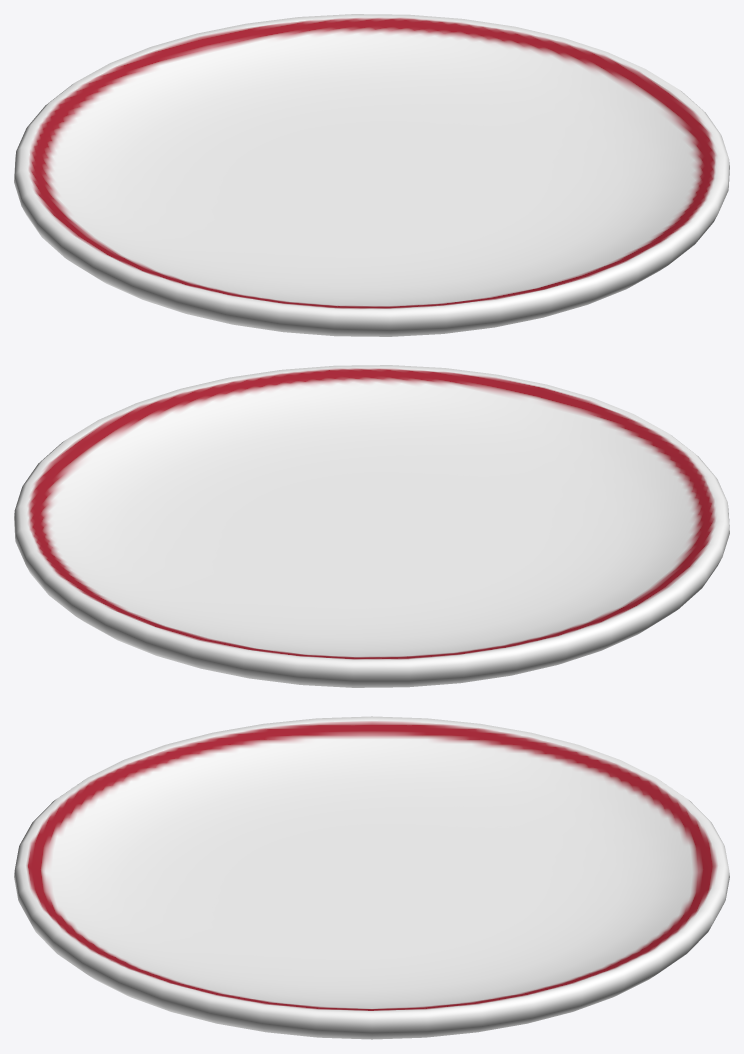
Rendered from Platev2.fbx.
3 views of the same model, one above another, from view 1: azimuth 30°, elevation 25°; view 2: azimuth 150°, elevation 25°; view 3: azimuth 270°, elevation 25° (orthographic).
Visible parts, largest first — view 1: plate; view 2: plate; view 3: plate.
Boxes of the visible parts, box(x1,y1,x2,y2) form: plate: box(14, 14, 729, 336); plate: box(14, 365, 729, 687); plate: box(14, 716, 729, 1039).
Size of the model in its own units: 1.87 by 0.1269 by 1.86.
